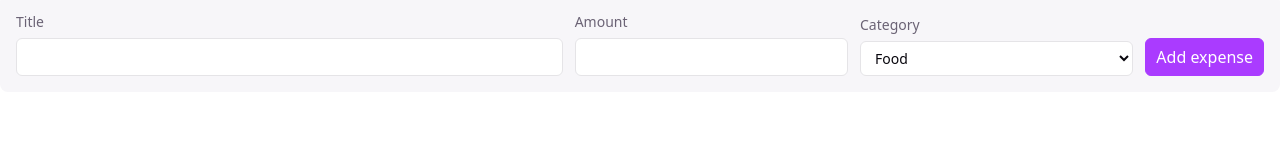
Test case: ExpenseForm › rejects the amount 0
In the field labelled "Title": [289, 57] box left=16, top=38, right=563, bottom=76, type "Lunch"
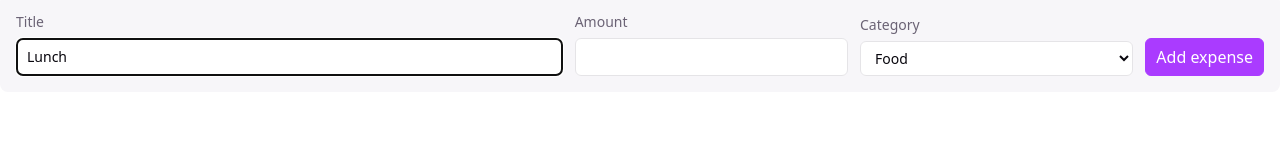
In the field labelled "Amount": [711, 57] box left=575, top=38, right=848, bottom=76, type "0"
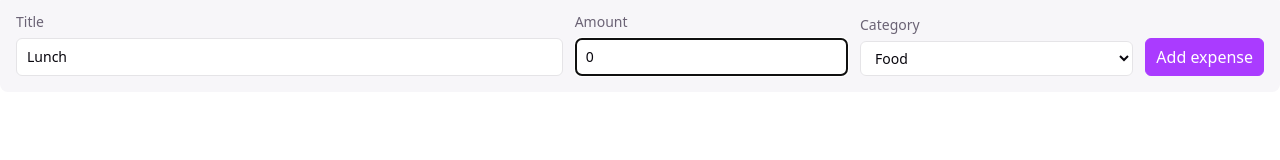
Click the button "Add expense": [1205, 57] box left=1145, top=38, right=1264, bottom=76
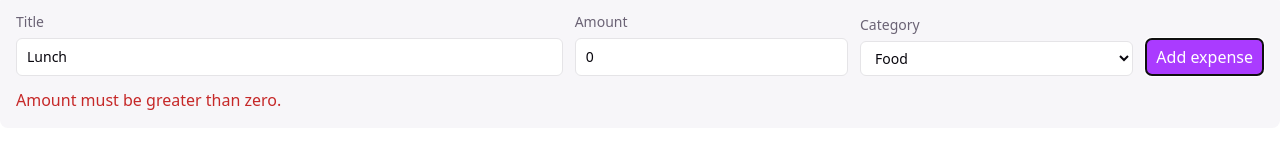
Now the message reads "Amount must be greater than zero.", box left=16, top=89, right=281, bottom=111
